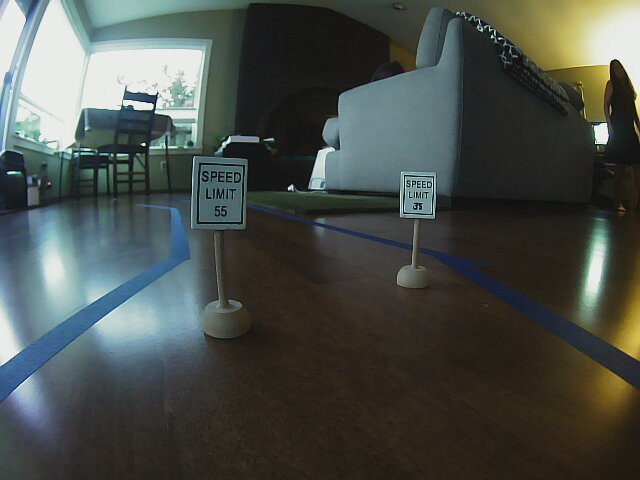SpeedLimit35: (398, 172, 437, 220)
SpeedLimit55: (188, 153, 251, 233)
